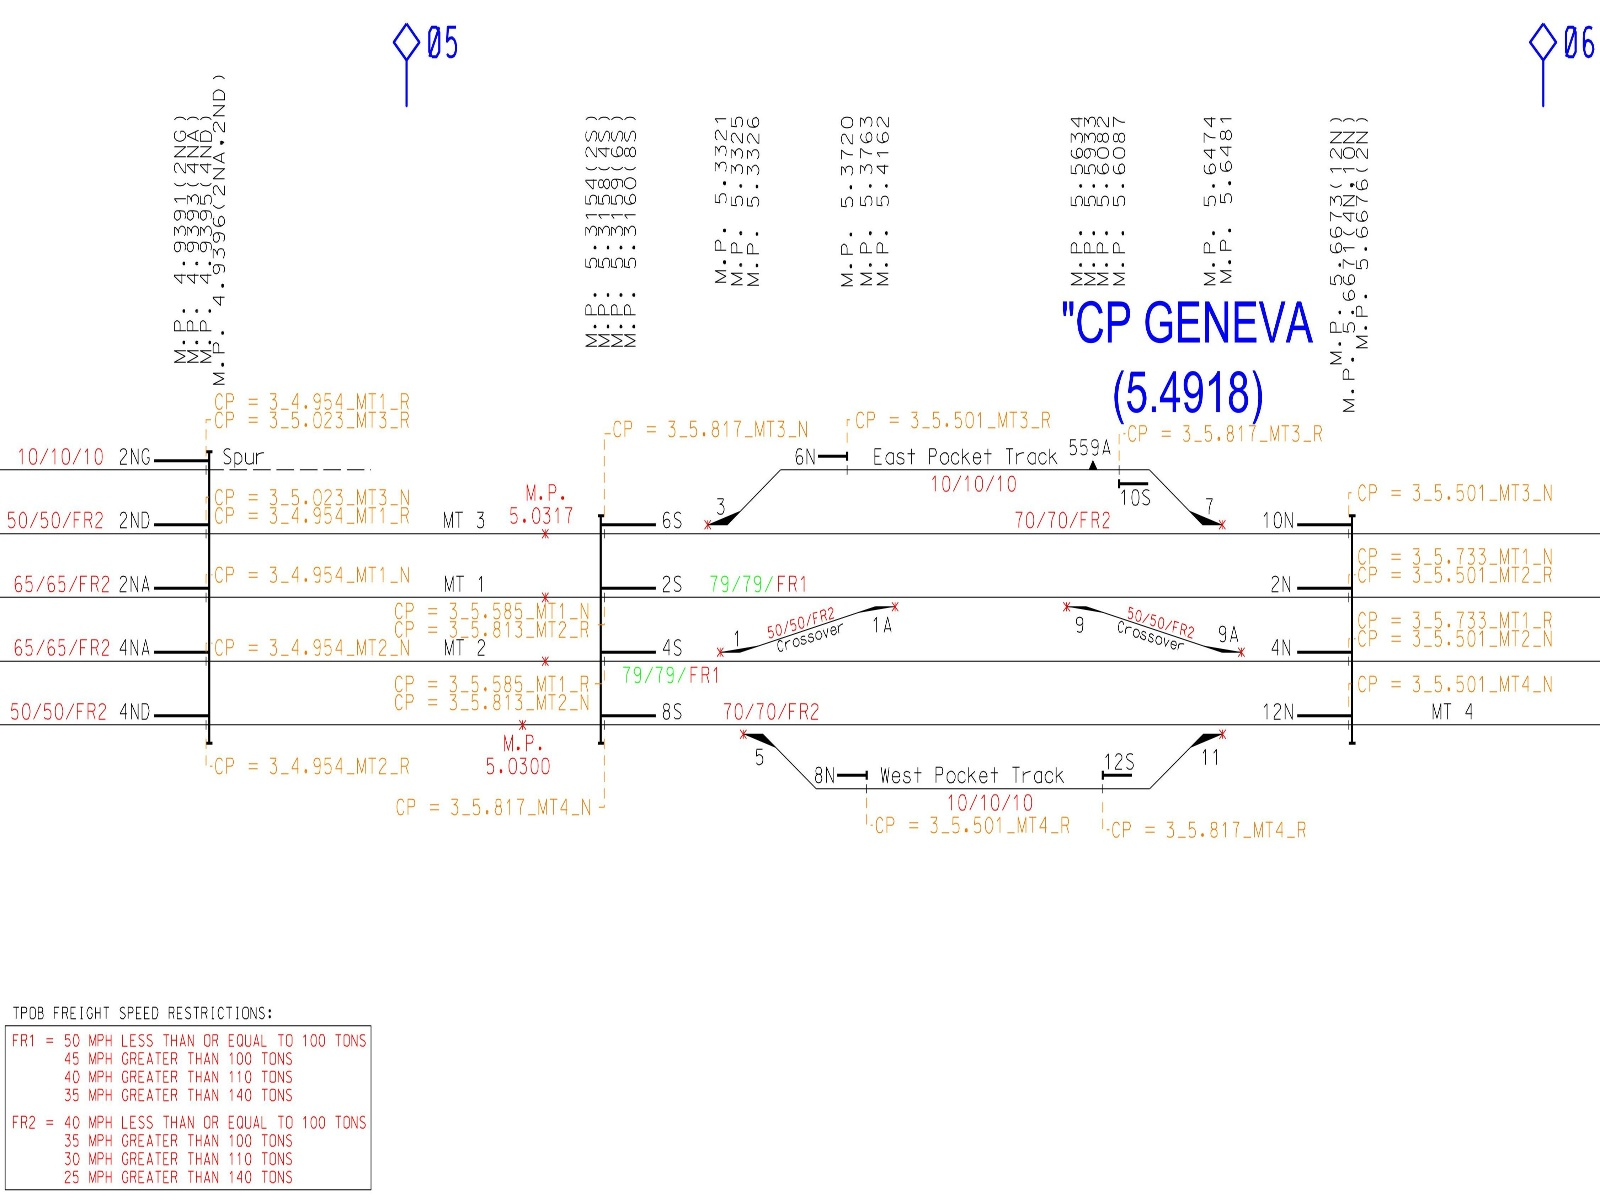leftSignal: (1250, 505, 1364, 547), (110, 500, 224, 541), (110, 632, 224, 672), (111, 563, 226, 604), (107, 437, 220, 478), (108, 693, 222, 734), (1254, 567, 1367, 608), (1260, 632, 1371, 671), (1256, 698, 1367, 736), (803, 759, 884, 799)
milepost: (1180, 98, 1259, 294), (699, 105, 776, 300), (828, 102, 905, 297), (1061, 100, 1138, 295)
rightSignal: (580, 696, 694, 737), (580, 505, 693, 547), (585, 632, 698, 673), (586, 567, 700, 608), (1073, 475, 1170, 511), (770, 442, 866, 478)
switch: (1194, 616, 1255, 666), (695, 492, 757, 539), (702, 623, 763, 671), (855, 590, 917, 638), (731, 724, 792, 771), (1048, 590, 1109, 638), (1186, 721, 1246, 769)
